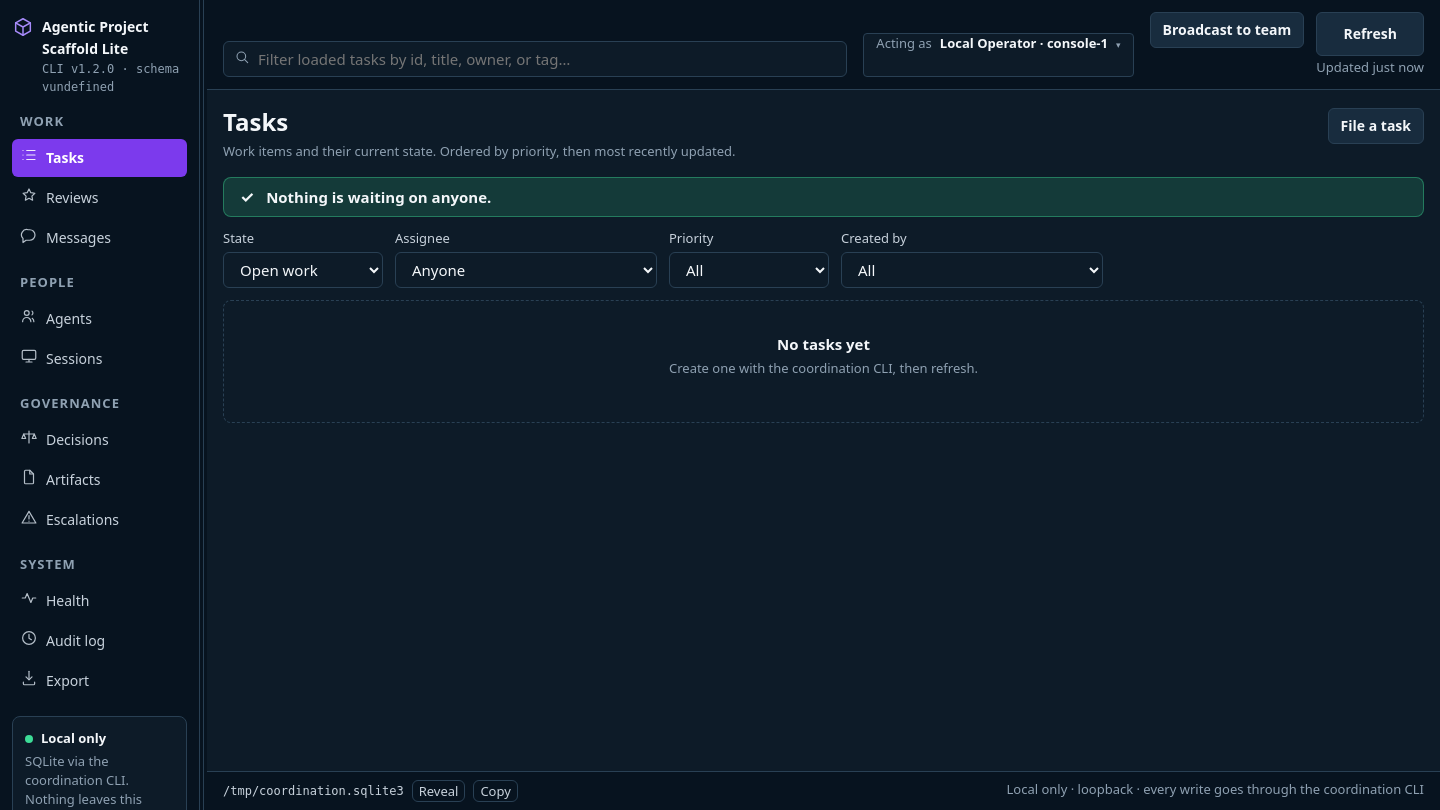
Scenario: Broadcast within the app shell › returns focus to the launcher after the close button
Click the button "Broadcast to team": click(1227, 30) [1150, 12, 1304, 48]
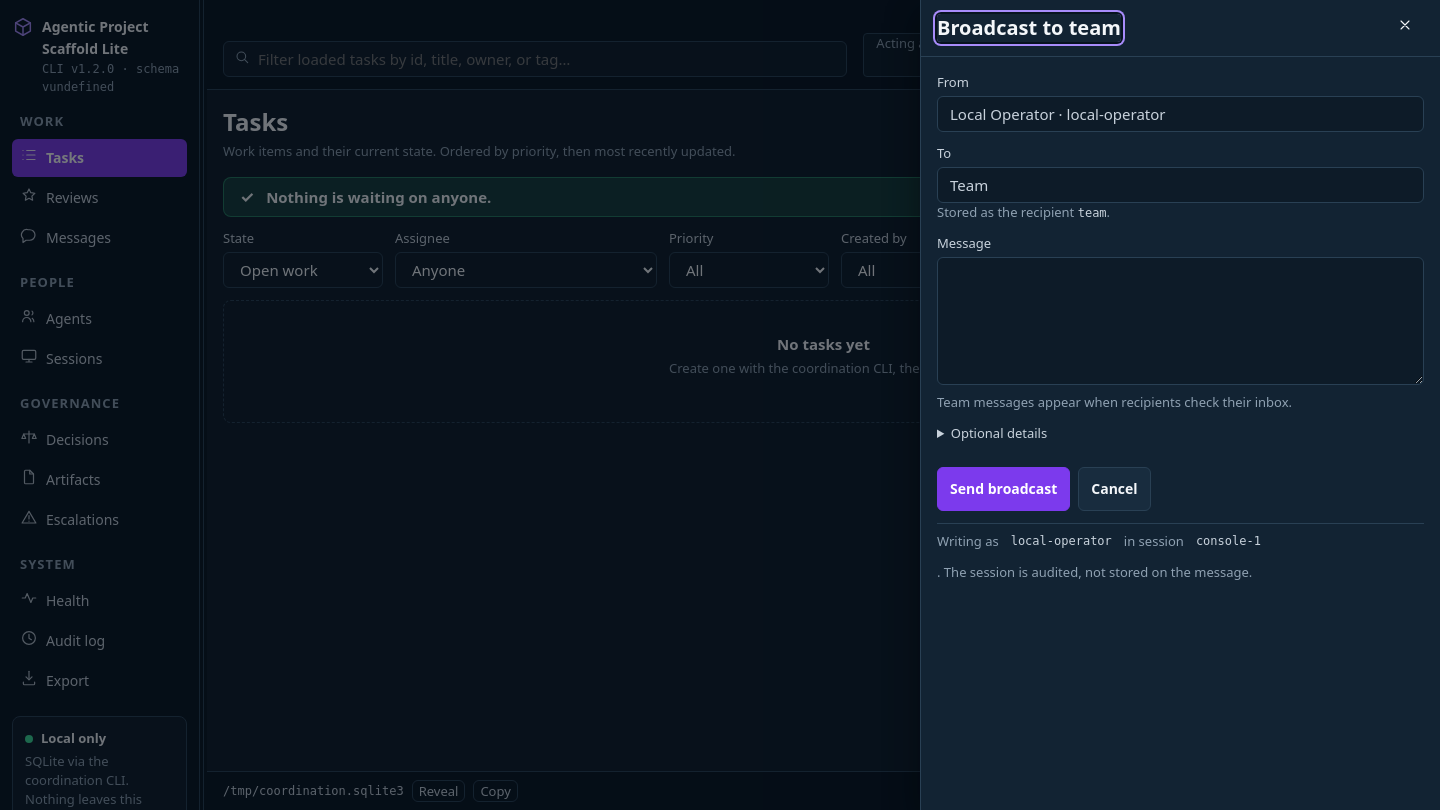
Check: the dialog is shown, box [920, 0, 1439, 809]
Click the button named "Close broadcast composer": click(1405, 28) [1386, 12, 1424, 44]
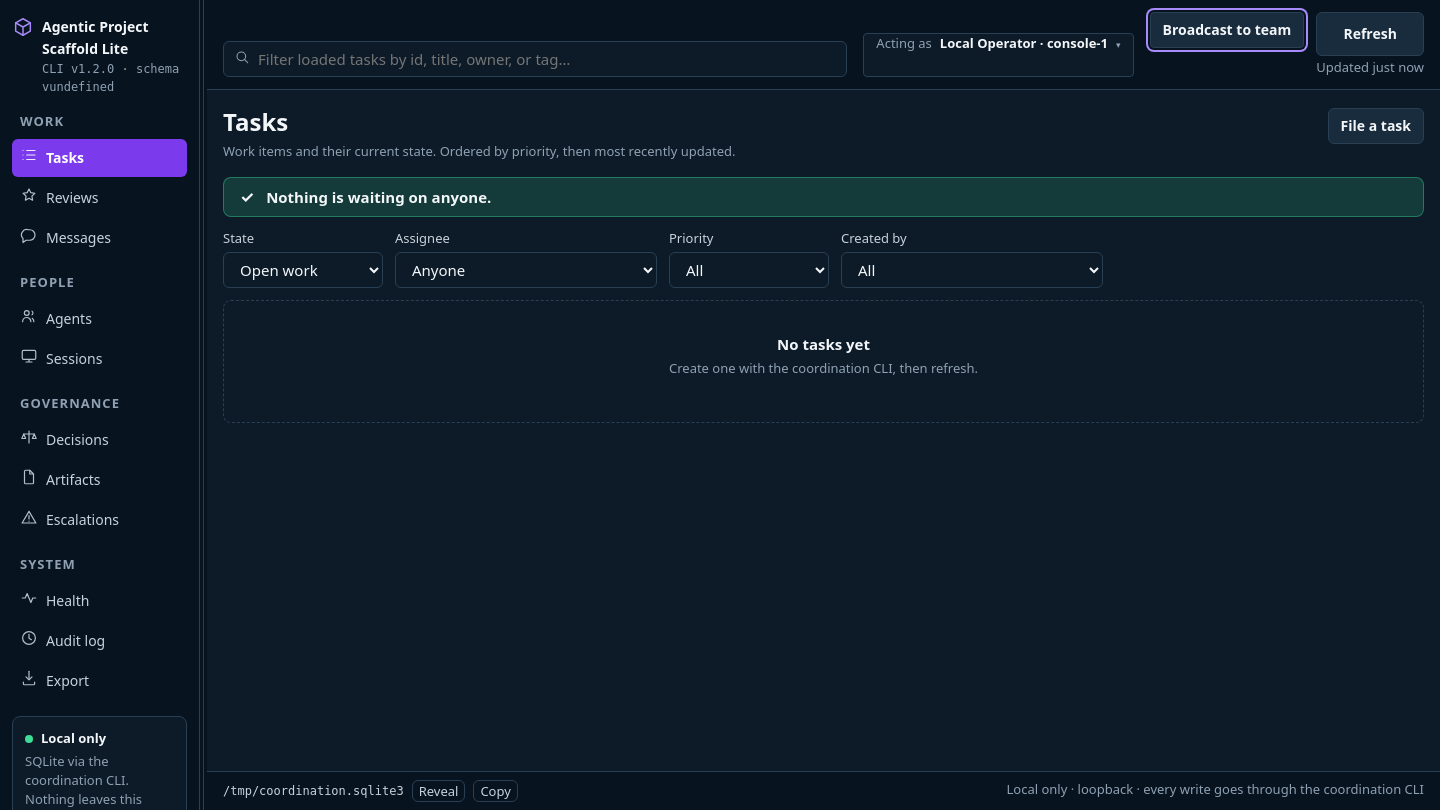
Check: the dialog is gone
